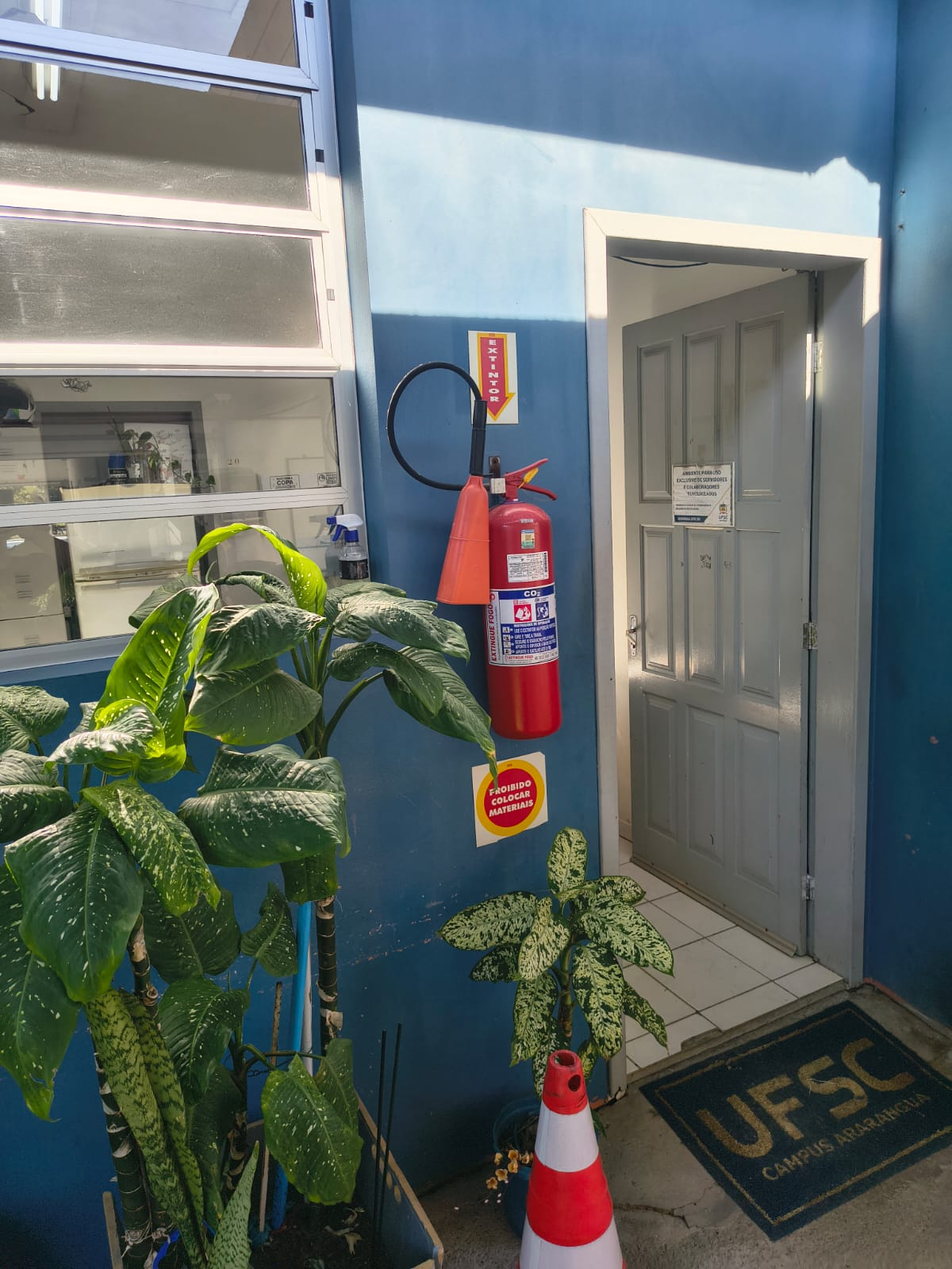cone: (513, 1042, 628, 1269)
